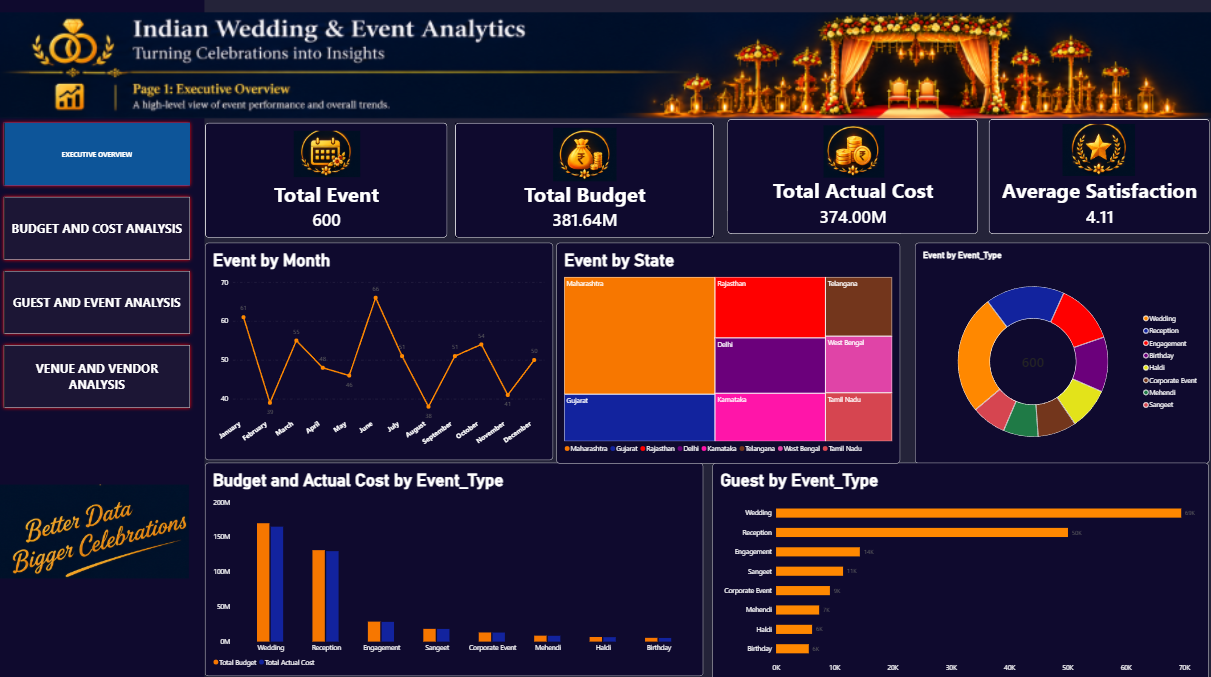

The dashboard page shown, as its layout file describes it:
{"tool":"powerbi","page":{"name":"EXECUTIVE OVERVIEW","canvas":[2560,1440],"ordinal":0},"visuals":[{"type":"textbox","box":[0,0,430.6,1438.8],"z":0},{"type":"cardVisual","fields":{"Data":["Events.Average Satisfaction"]},"box":[2082.5,252.5,465,242.5],"z":1000},{"type":"cardVisual","fields":{"Data":["Events.Total Actual Cost"]},"box":[1532.5,252.5,527.5,242.5],"z":2000},{"type":"cardVisual","fields":{"Data":["Events.Total Budget"]},"box":[957.5,260,545,242.5],"z":3000},{"type":"lineChart","title":"Event by Month","fields":{"Category":["Dim_Date.Date.Variation.Date Hierarchy.Month"],"Y":["Events.Total Event"]},"box":[432.5,512.5,732.5,457.5],"z":4000},{"type":"donutChart","title":"Event by Event_Type","fields":{"Y":["Events.Total Event"],"Category":["Dim_Event.Event_Type"]},"box":[1927.5,512.5,620,465],"z":5000},{"type":"clusteredColumnChart","title":"Budget and Actual Cost by Event_Type","fields":{"Category":["Dim_Event.Event_Type"],"Y":["Events.Total Budget","Events.Total Actual Cost"]},"box":[432.5,977.5,1048.6,451.4],"z":6000},{"type":"barChart","title":"Guest by Event_Type","fields":{"Category":["Dim_Event.Event_Type"],"Y":["Events.Total Guest"]},"box":[1500,977.5,1045,462.5],"z":7000},{"type":"treemap","title":"Event by State","fields":{"Group":["Dim_City.State"],"Values":["Events.Total Event"]},"box":[1170,512.5,724.3,464.9],"z":8000},{"type":"pageNavigator","box":[0,252,408.2,618.4],"z":9000},{"type":"image","box":[0,970,398,300],"z":10000},{"type":"image","box":[0,0,2559.1,279.5],"z":11000},{"type":"cardVisual","fields":{"Data":["Events.Total Event"]},"box":[432.5,260,510,242.5],"z":12000},{"type":"image","box":[1150,270,162.5,112.5],"z":13000},{"type":"image","box":[1730,265,137.5,110],"z":15000},{"type":"image","box":[2237.5,252.5,152.5,130],"z":16000},{"type":"image","box":[617.5,270,140,110],"z":16500}]}

Visuals, with their boxes in screenshot pixels (x1, y1, x2, y2), scaled from the page's 2560x1440 canvas onto the 1211x677 screenshot:
textbox: [0, 0, 204, 676]
cardVisual - Events.Average Satisfaction: [985, 119, 1205, 233]
cardVisual - Events.Total Actual Cost: [725, 119, 974, 233]
cardVisual - Events.Total Budget: [453, 122, 711, 236]
"Event by Month" lineChart: [205, 241, 551, 456]
"Event by Event_Type" donutChart: [912, 241, 1205, 460]
"Budget and Actual Cost by Event_Type" clusteredColumnChart: [205, 460, 701, 672]
"Guest by Event_Type" barChart: [710, 460, 1204, 676]
"Event by State" treemap: [553, 241, 896, 460]
pageNavigator: [0, 118, 193, 409]
image: [0, 456, 188, 597]
image: [0, 0, 1210, 131]
cardVisual - Events.Total Event: [205, 122, 446, 236]
image: [544, 127, 621, 180]
image: [818, 125, 883, 176]
image: [1058, 119, 1131, 180]
image: [292, 127, 358, 179]
